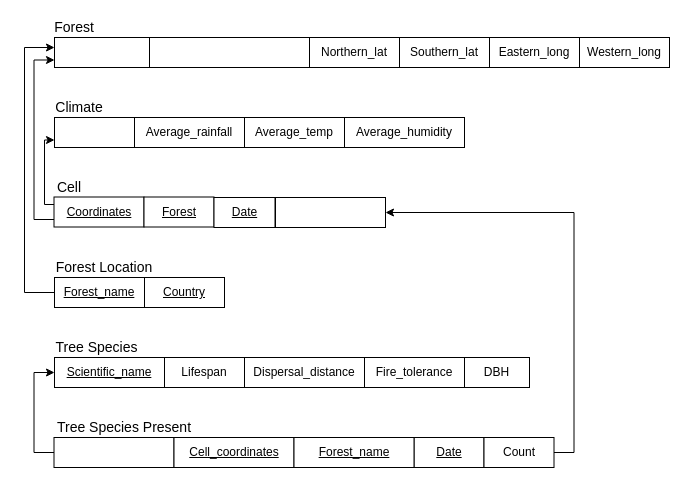
This 687x485 diagram has some shape labels left out. Here are the shapes that lost their labels. From the top down, the centre of each, then its label:
the point at 104,52: Official_name
the point at 229,52: Growing_space_occupied
the point at 94,132: Name
the point at 330,212: Climate_name
the point at 113,452: Species_name
